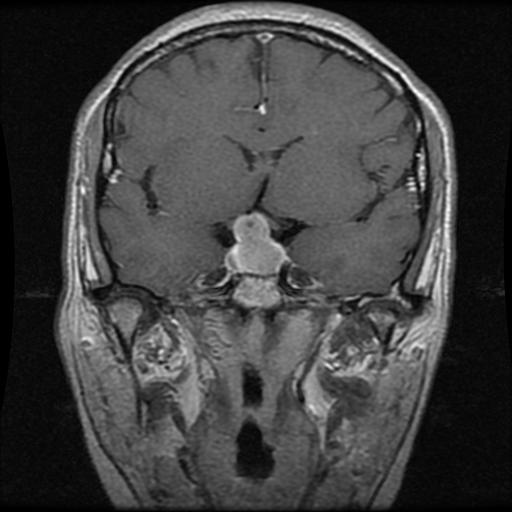Pituirity_tumour: (225, 211, 286, 276)
